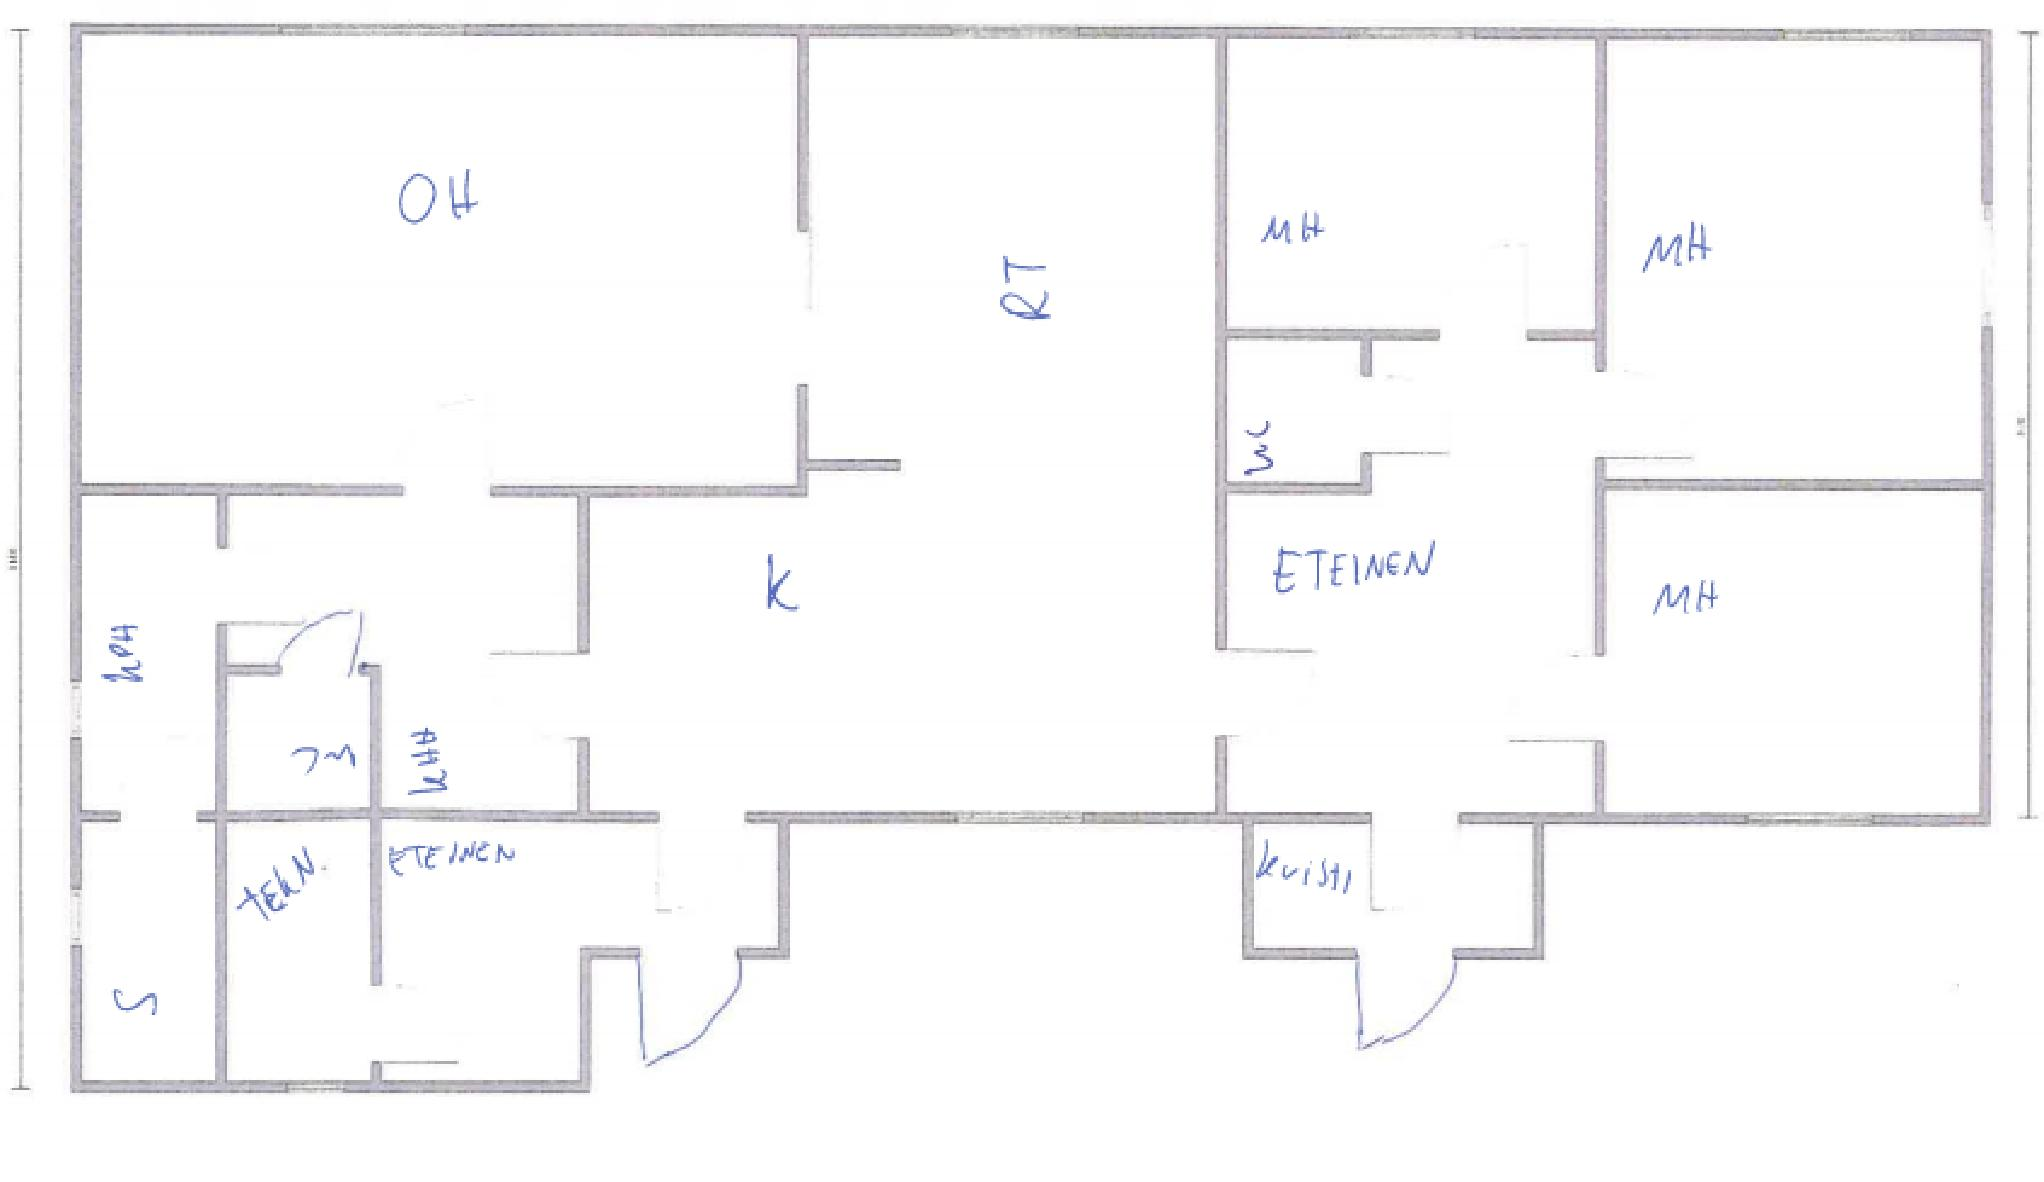door: (632, 954, 746, 1057), (1352, 946, 1463, 1048), (277, 609, 367, 677)
window: (280, 23, 467, 39), (950, 23, 1079, 41), (1744, 808, 1865, 826), (1352, 28, 1471, 45), (1787, 28, 1905, 42), (955, 815, 1085, 827), (1982, 203, 1993, 324), (288, 1078, 342, 1095), (68, 891, 83, 946), (68, 681, 83, 735)
zone: (589, 35, 1214, 811), (83, 32, 796, 480), (1227, 331, 1594, 813), (1607, 34, 1984, 477), (1607, 491, 1976, 811), (229, 495, 580, 811), (1222, 32, 1591, 326), (384, 818, 777, 1086), (79, 495, 218, 808), (222, 816, 371, 1078), (80, 816, 218, 1076), (1255, 819, 1532, 946), (226, 674, 369, 812), (1227, 338, 1359, 483)
